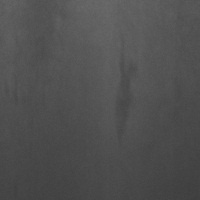inclusion: (105, 32, 144, 146)
